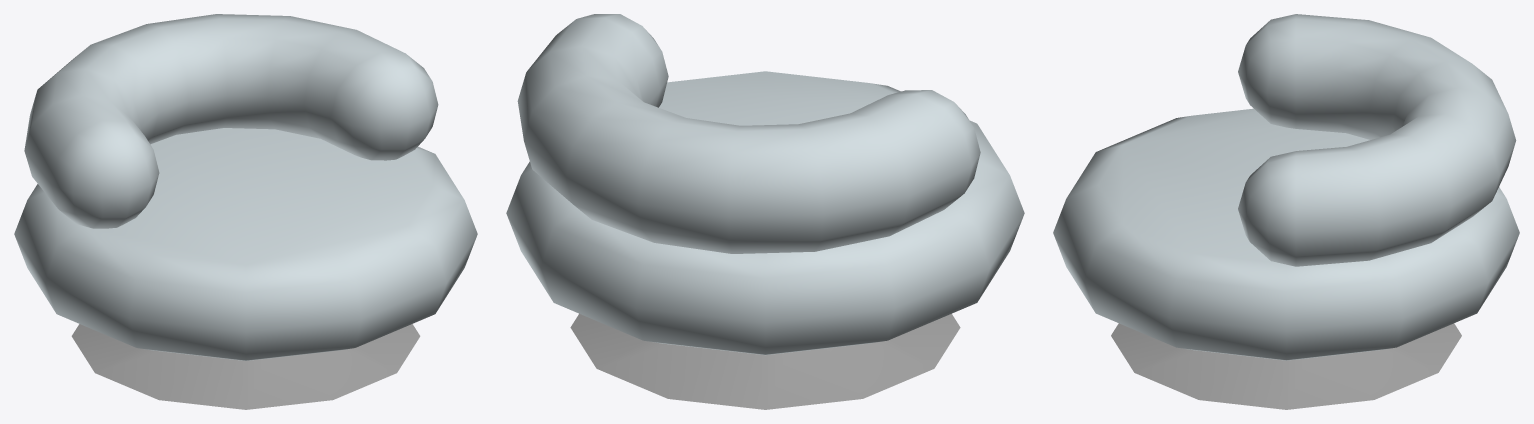
Rendered from armchair_019.glb.
3 renders of one model, left to right at view 1: azimuth 30°, elevation 25°; view 2: azimuth 150°, elevation 25°; view 3: azimuth 270°, elevation 25°, orthographic. The views are drawn at different scales.
Visible parts, largest first — view 1: armchair_019; view 2: armchair_019; view 3: armchair_019.
Boxes of the visible parts, x1,y1,x2,y2 form: armchair_019: (14, 14, 477, 409); armchair_019: (506, 14, 1024, 409); armchair_019: (1053, 14, 1519, 409).
Bounding box in the file's own units: 1.42 × 0.8325 × 1.42.
1 material, 1 textured.
